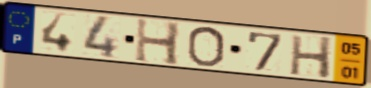4: (81, 14, 122, 60), (40, 12, 76, 55)
7: (245, 31, 285, 73)
H: (133, 17, 183, 68), (288, 34, 334, 81)
O: (185, 25, 228, 68)
